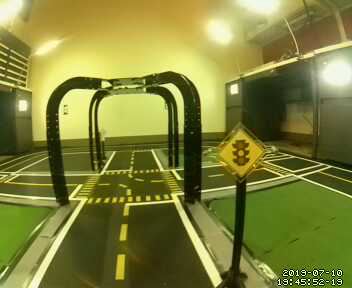Traffic light sign: (218, 128, 264, 178)
